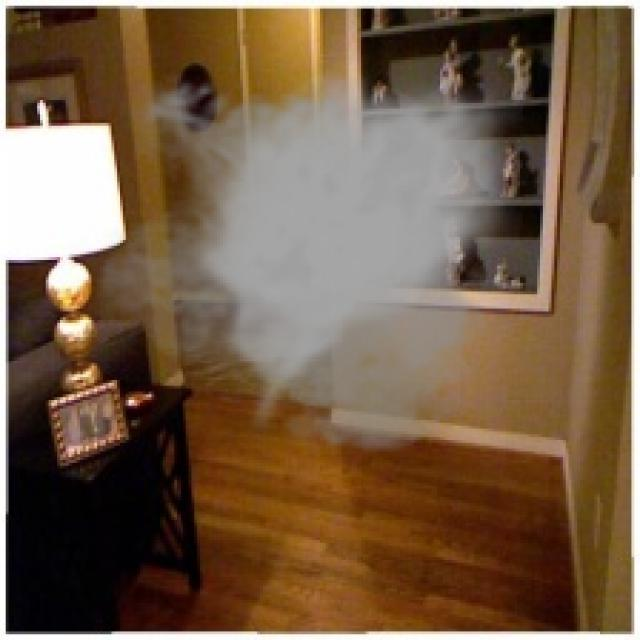Smoke: (97, 69, 523, 458)
